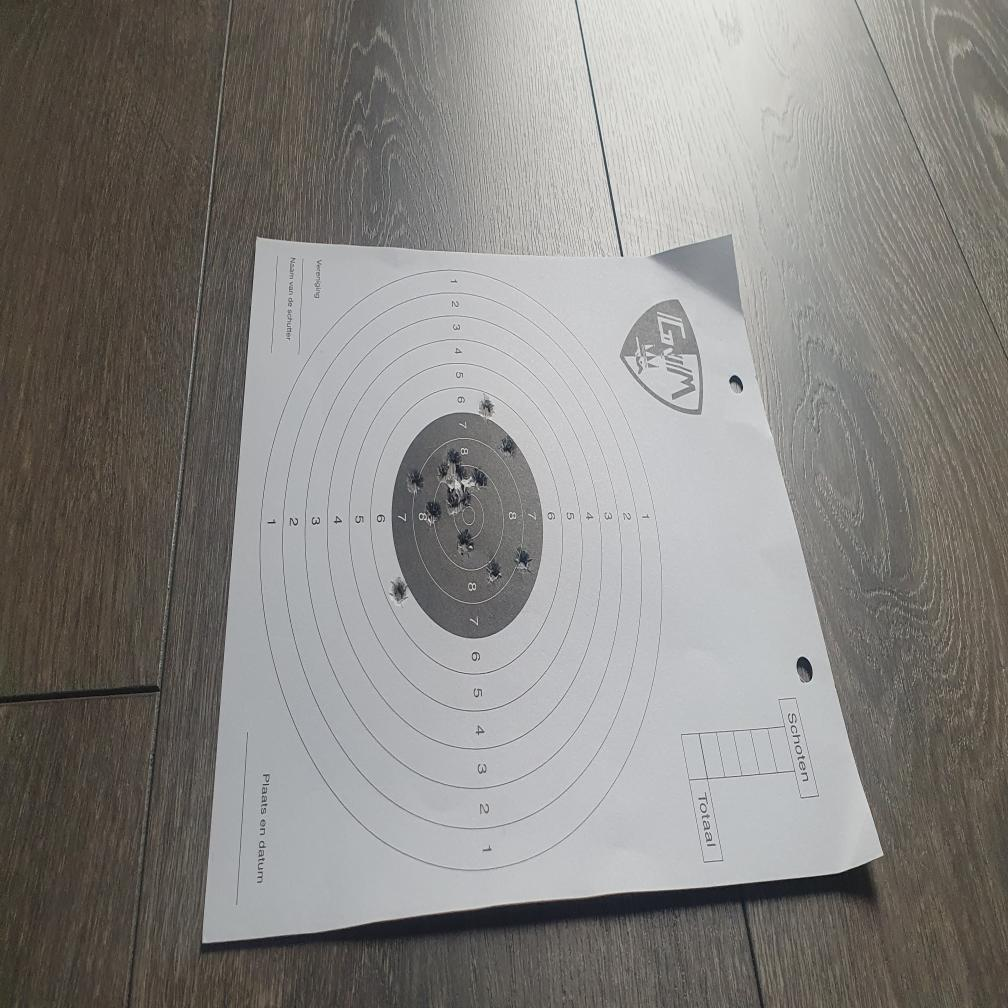10: (456, 528, 475, 560), (446, 488, 459, 516), (457, 487, 471, 508)
6: (388, 575, 408, 608)
7: (498, 432, 516, 464), (476, 393, 494, 423)
8: (515, 542, 533, 578), (405, 468, 424, 497)
9: (484, 555, 503, 583), (426, 499, 441, 531), (471, 466, 488, 494), (438, 461, 449, 483), (447, 447, 458, 468)
Target: (259, 262, 666, 874)
black_contour: (392, 411, 544, 640)
